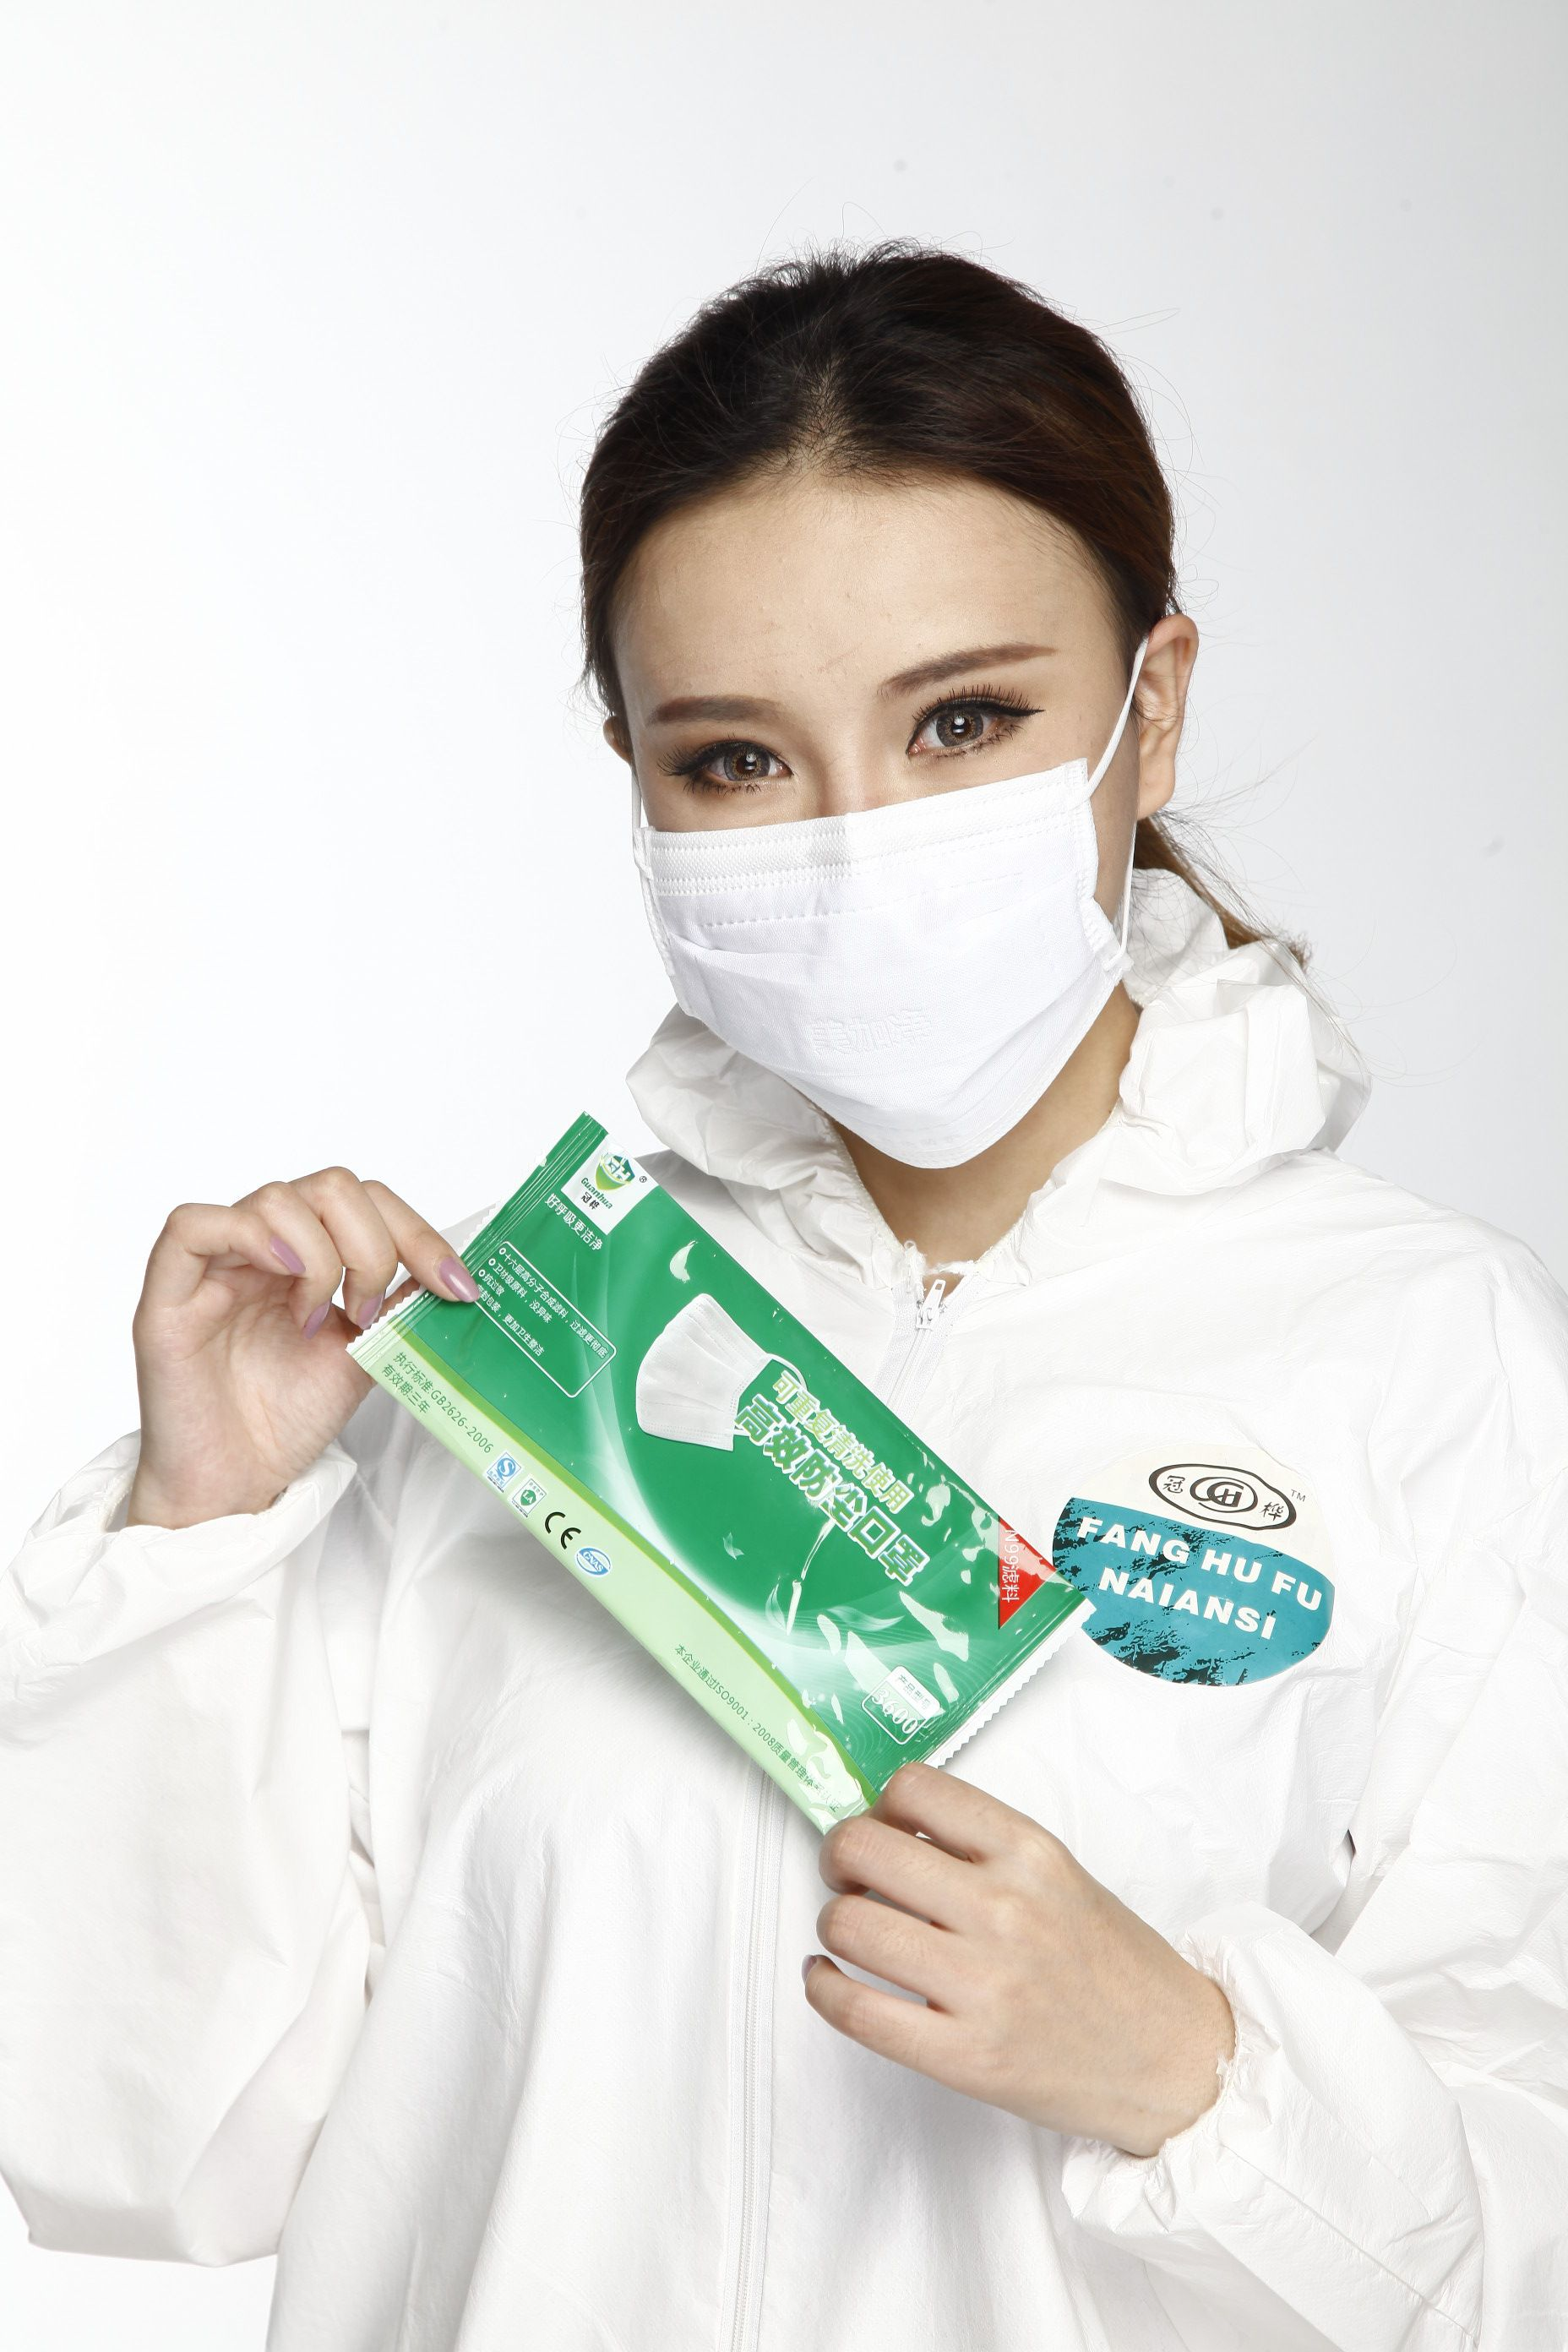face_mask: (651, 581, 1113, 1174)
